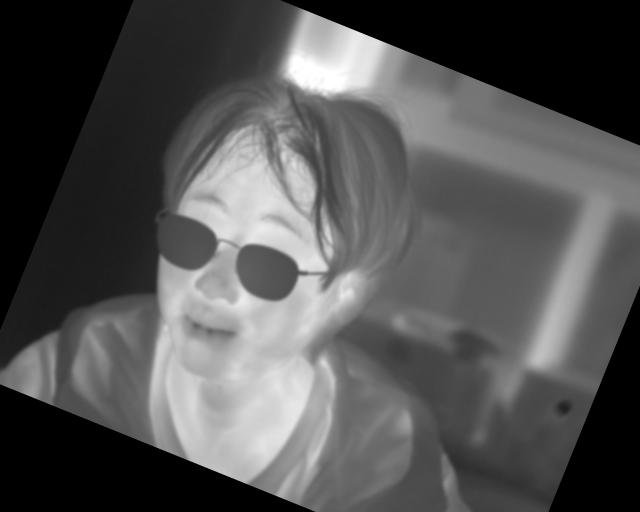face: (93, 32, 449, 433)
